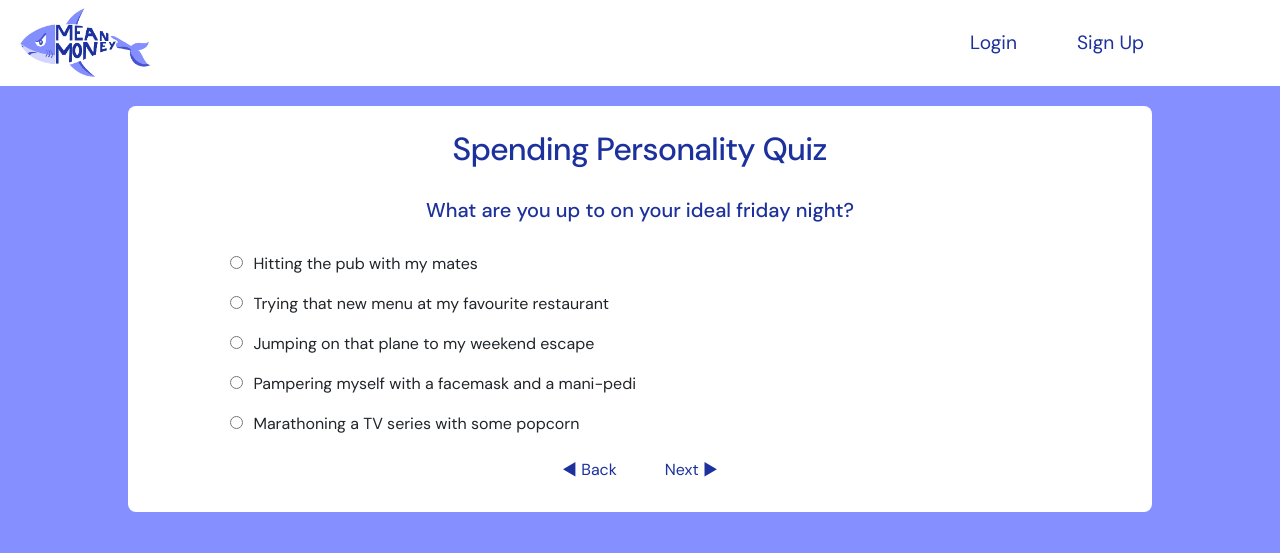
Test case: Quiz Component › navigates to the next question using the next button
Click the radio button labelled "Hitting the pub with my mates" at (237, 263), box [230, 256, 243, 269]
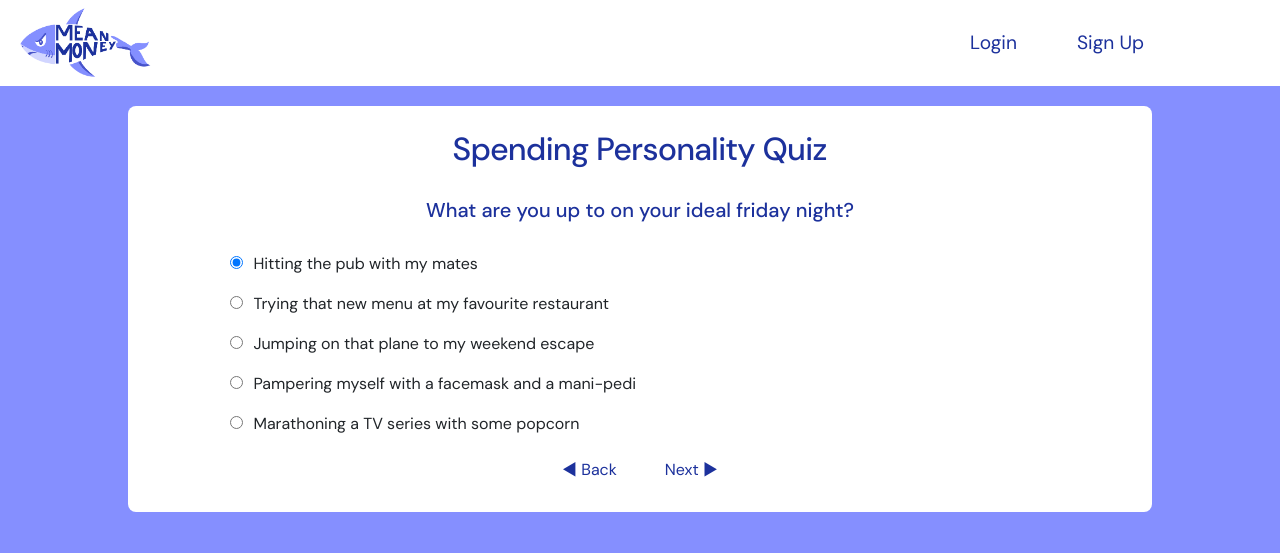
Click the button "Next ▶" at (691, 470), box [641, 452, 742, 488]
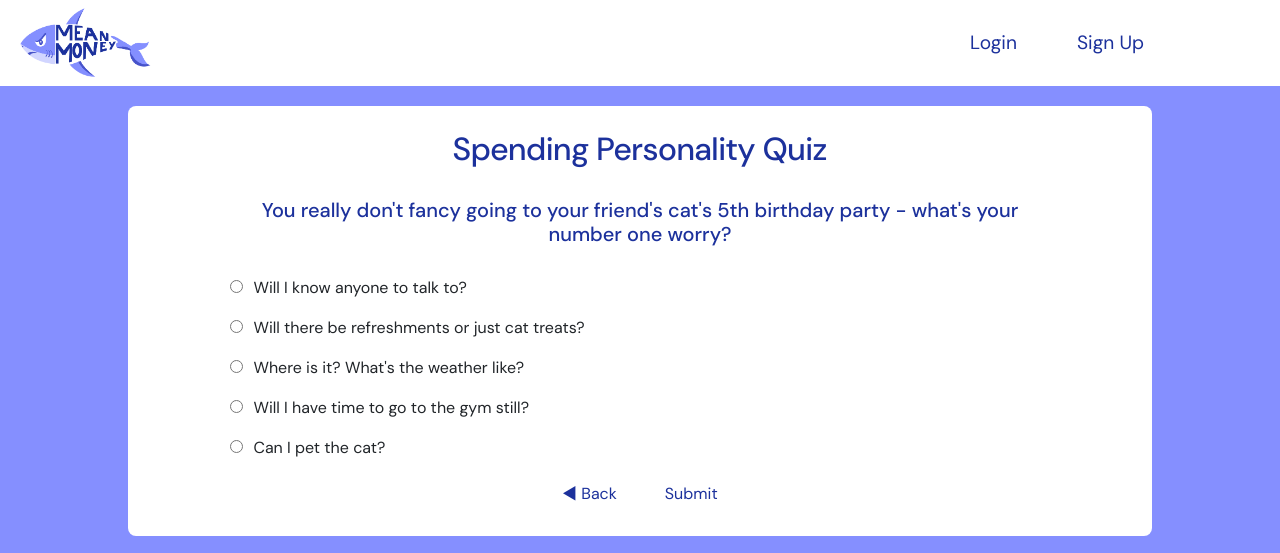
Expected: the heading "You really don't fancy going to your friend's cat's 5th birthday party - what's your number one worry?" is shown, [262, 197, 1018, 247]
